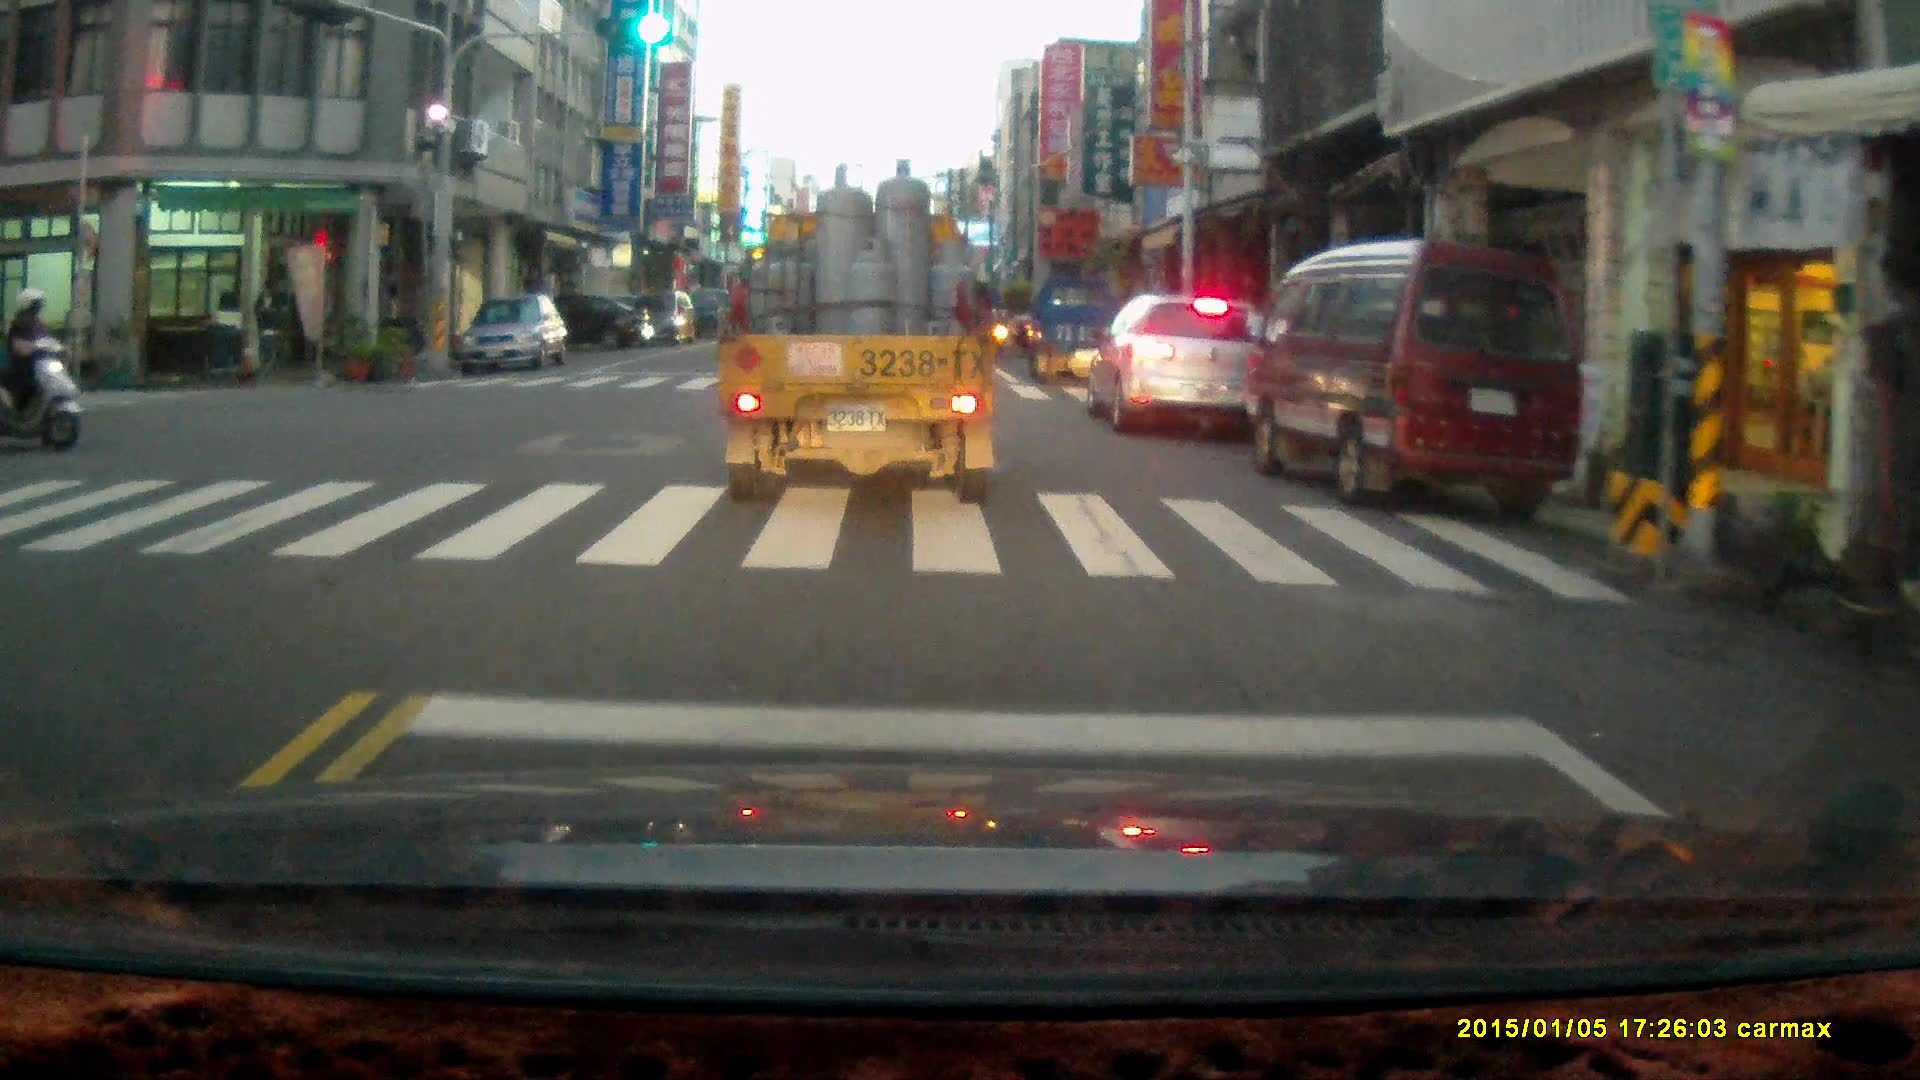pedestrian: (250, 275, 284, 384)
rider: (1, 287, 79, 451)
vehicle: (722, 162, 998, 512), (1252, 242, 1583, 520), (1085, 289, 1280, 448), (1031, 276, 1136, 395), (505, 296, 648, 360), (462, 299, 573, 377), (605, 290, 695, 345)
